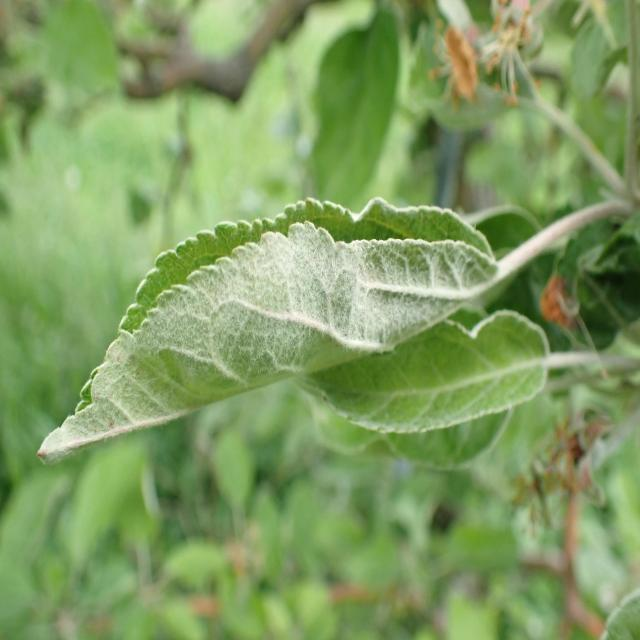Powdery_mildew: (46, 188, 518, 457)
